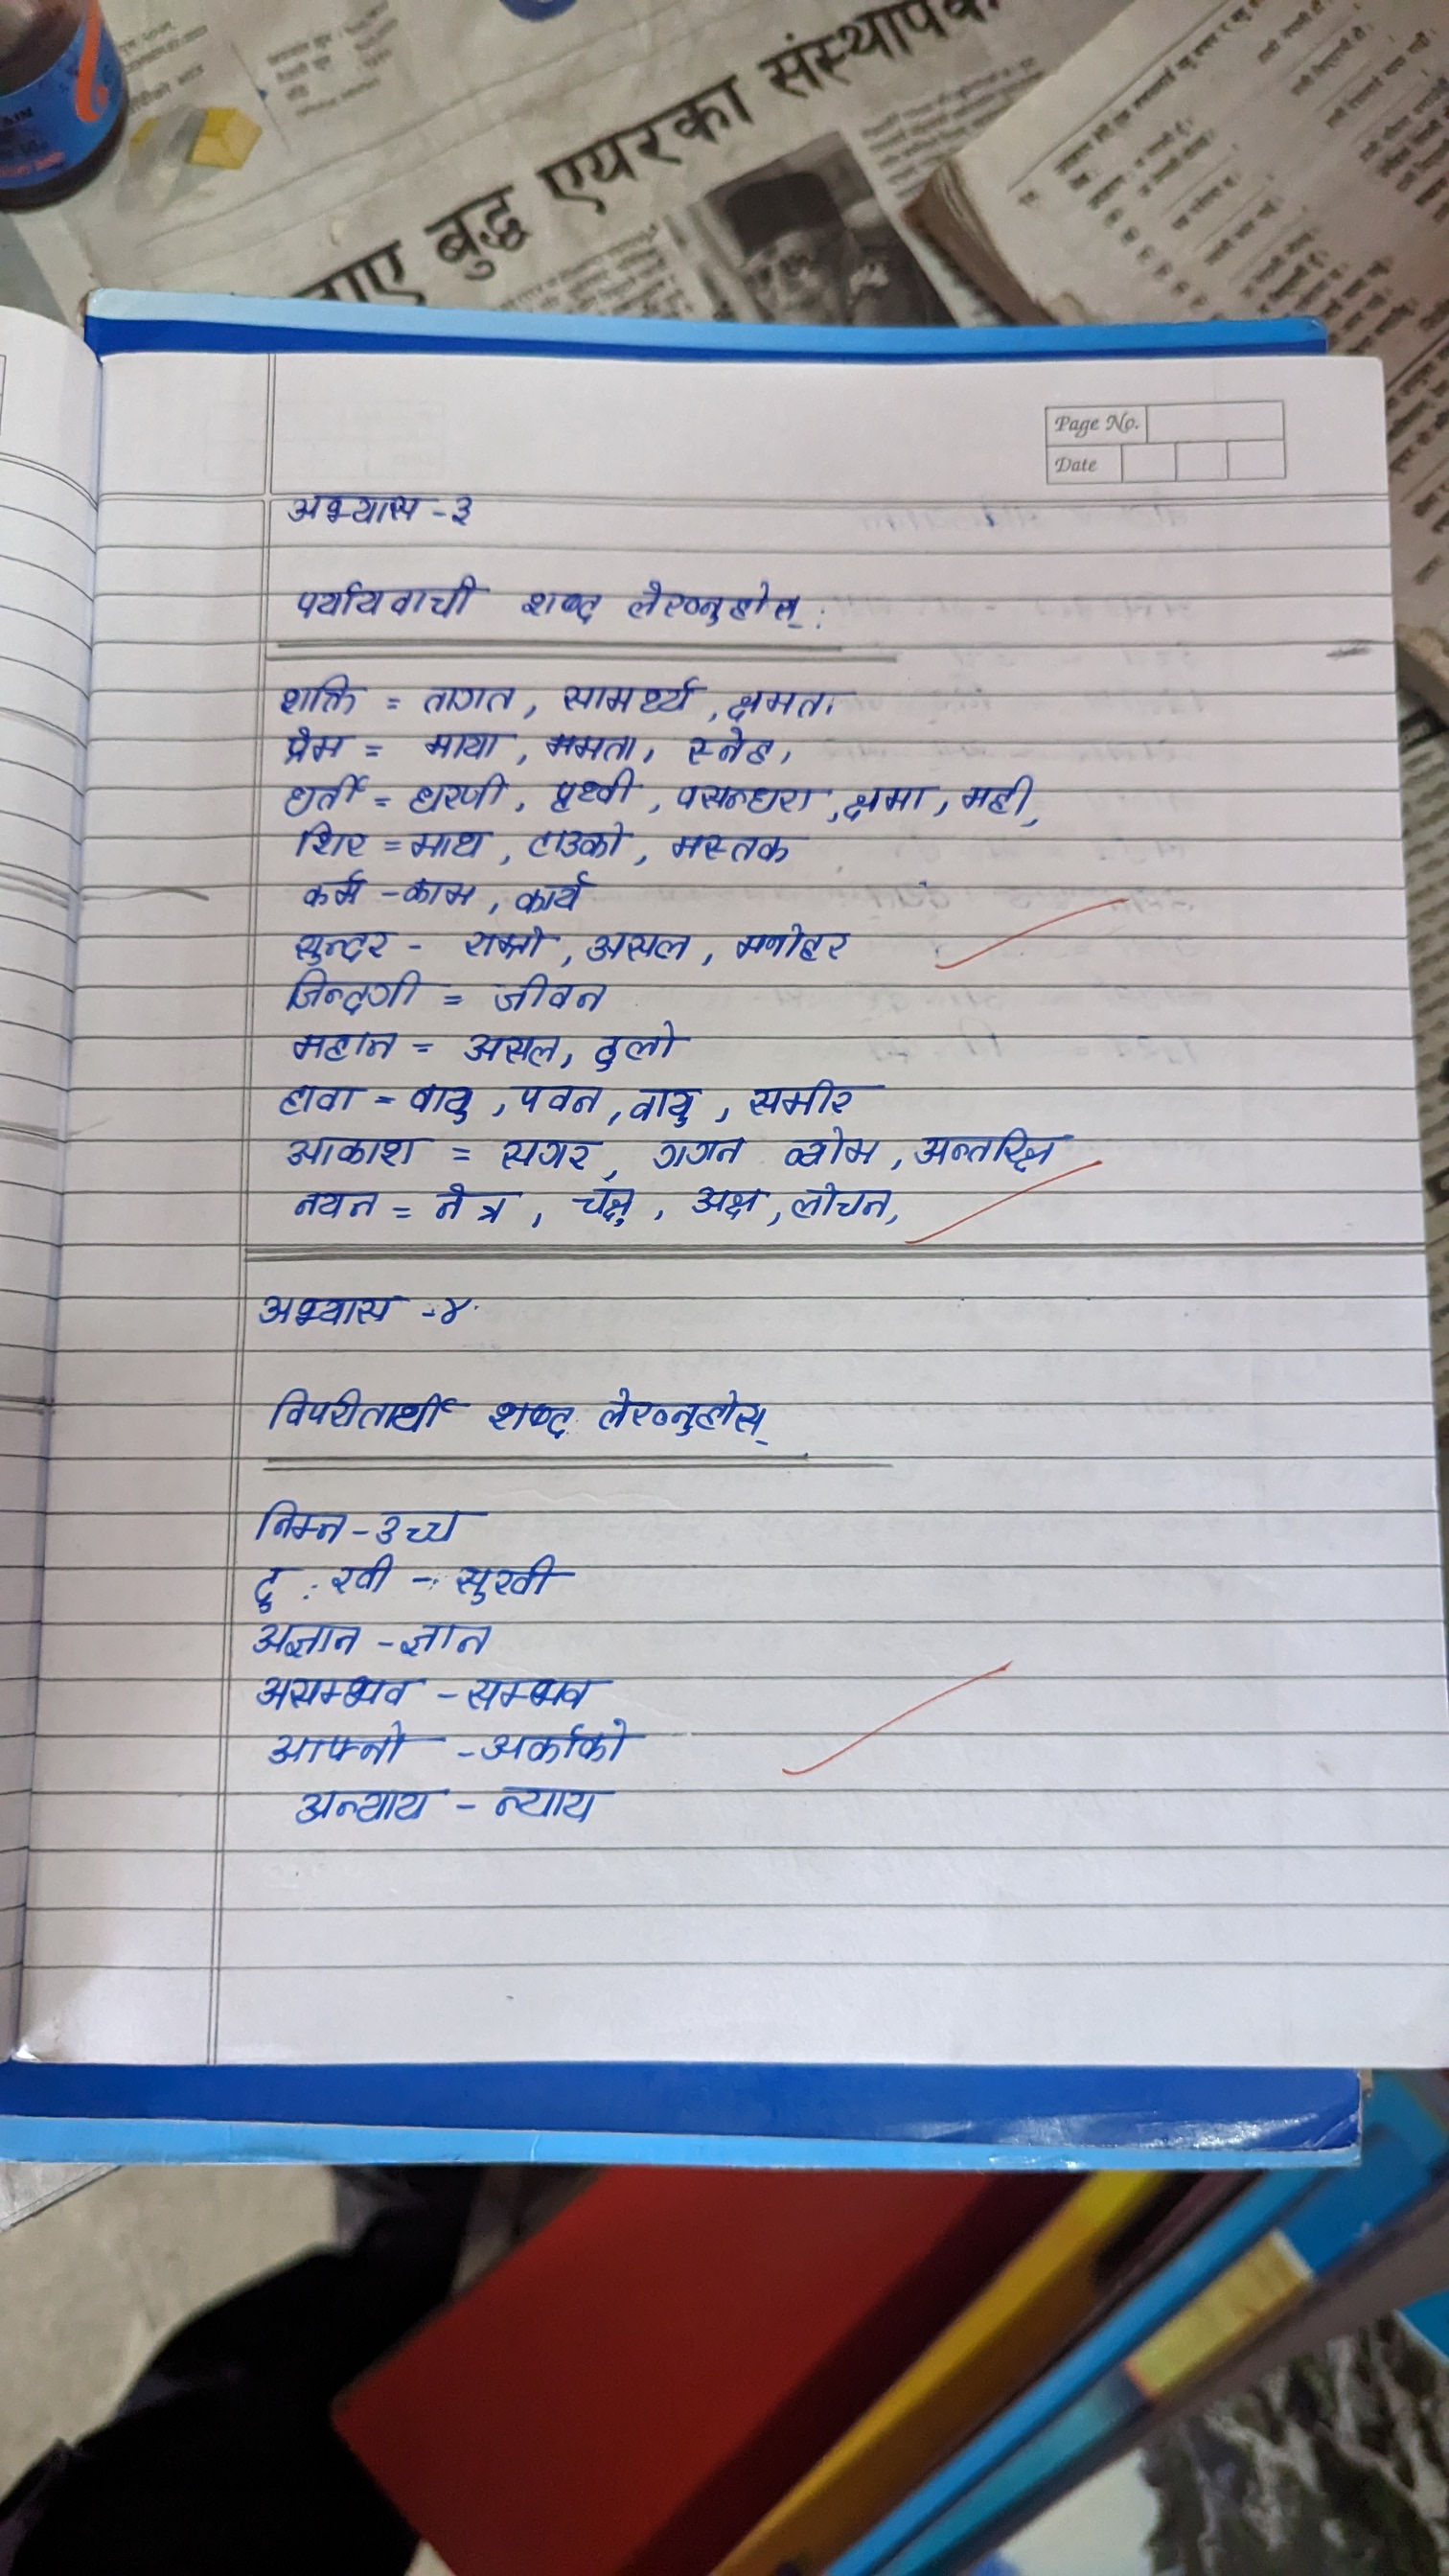text: (619, 570, 817, 640), (265, 1375, 467, 1442), (594, 1378, 777, 1445), (294, 568, 479, 633), (916, 1123, 1063, 1189), (285, 471, 432, 534), (246, 1555, 400, 1615), (478, 1716, 630, 1767), (281, 1785, 444, 1833), (276, 964, 428, 1014), (246, 1290, 403, 1336), (255, 1668, 418, 1713), (487, 1780, 625, 1829), (550, 672, 699, 718), (462, 1667, 603, 1713), (267, 1720, 409, 1766), (791, 1178, 901, 1235), (672, 777, 817, 819), (449, 1548, 556, 1605), (731, 922, 856, 970), (745, 1074, 874, 1118), (287, 1131, 418, 1173), (246, 1495, 354, 1546), (724, 676, 842, 722), (244, 1617, 364, 1661), (662, 833, 812, 869), (952, 766, 1044, 823), (366, 1500, 488, 1543), (283, 920, 396, 964), (483, 1387, 580, 1438), (591, 1021, 688, 1072), (430, 1175, 515, 1231), (777, 1129, 881, 1175), (520, 580, 607, 635), (414, 671, 517, 717), (278, 770, 372, 819), (488, 973, 607, 1012), (274, 669, 363, 720), (410, 775, 506, 821), (547, 764, 635, 814), (840, 778, 931, 826), (681, 729, 777, 773), (584, 925, 692, 964), (398, 1619, 501, 1658), (513, 869, 596, 916), (418, 722, 510, 764), (290, 1031, 400, 1067), (625, 1079, 702, 1129), (524, 824, 630, 860), (287, 1184, 382, 1223), (640, 1132, 745, 1168), (462, 925, 548, 968), (517, 1077, 607, 1118), (494, 1136, 602, 1169), (271, 1079, 361, 1118), (465, 1031, 559, 1069), (543, 725, 640, 761), (688, 1178, 757, 1224), (402, 1085, 481, 1123), (297, 867, 373, 908), (400, 878, 478, 915), (566, 1184, 637, 1224), (297, 821, 373, 858), (412, 824, 488, 860), (281, 727, 349, 764), (426, 1292, 481, 1332), (446, 492, 479, 531)
